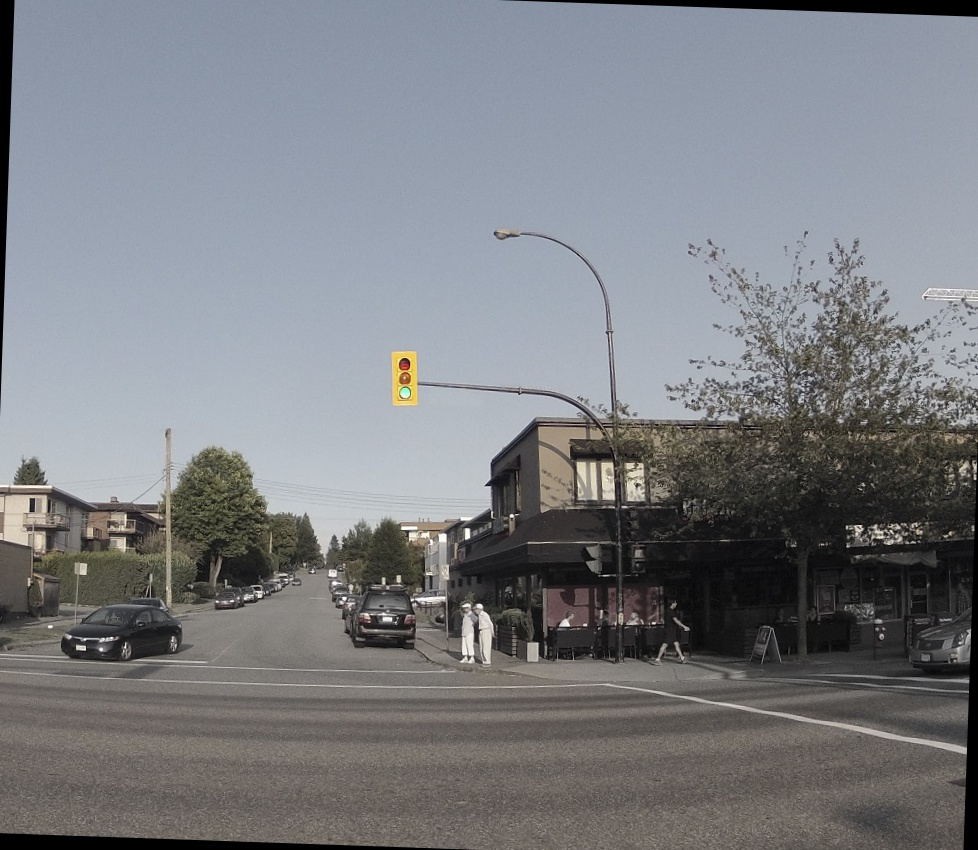traffic_light: (390, 349, 419, 407)
